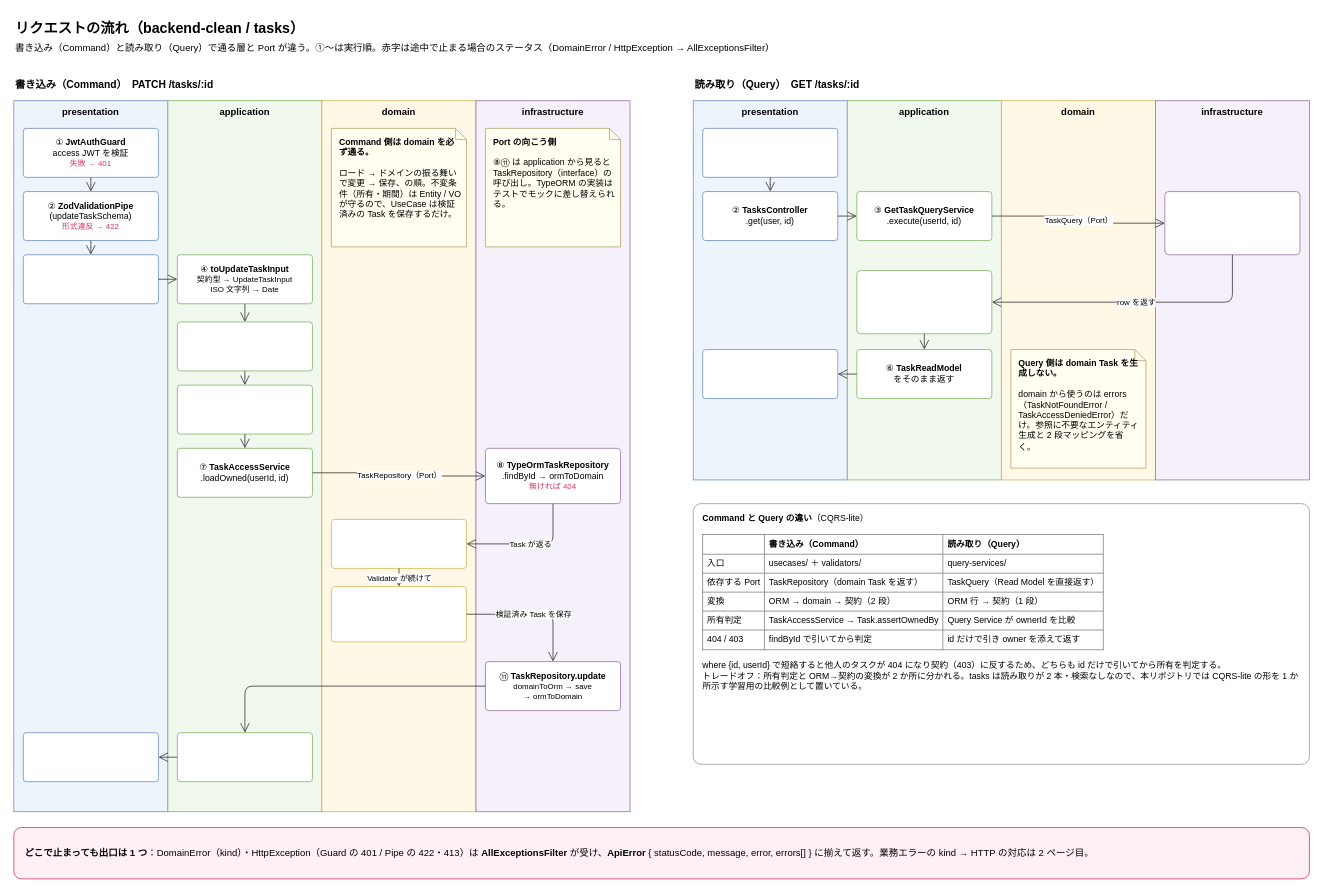
The diagram is 1323 pixels wide and 893 high, and some of its shapes have lost their labels. Here are the shapes that lost their labels. From the top down, the centre of each, then its label:
point 770,152: ① JwtAuthGuard 失敗 → 401
point 1232,223: ④ TypeOrmTaskQuery .findByIdWithOwner(id) ORM 行 → { task: 契約 Task, ownerId }
point 90,279: ③ TasksController .update(user, id, body)
point 924,302: ⑤ owner を照合 row 無し → 404 ownerId ≠ userId → 403
point 244,346: ⑤ UpdateTaskUseCase .execute(input)
point 770,374: ⑦ 200 Task（JSON）
point 244,409: ⑥ UpdateTaskValidator .execute(input)
point 398,543: ⑨ task.assertOwnedBy (userId) 非所有 → 403
point 398,614: ⑩ task.applyUpdate (patch) DateRange.of で再検証 開始 > 終了 → 422
point 90,757: ⑬ 200 Task（JSON）
point 244,757: ⑫ toContractTask domain Task → 契約 Task
